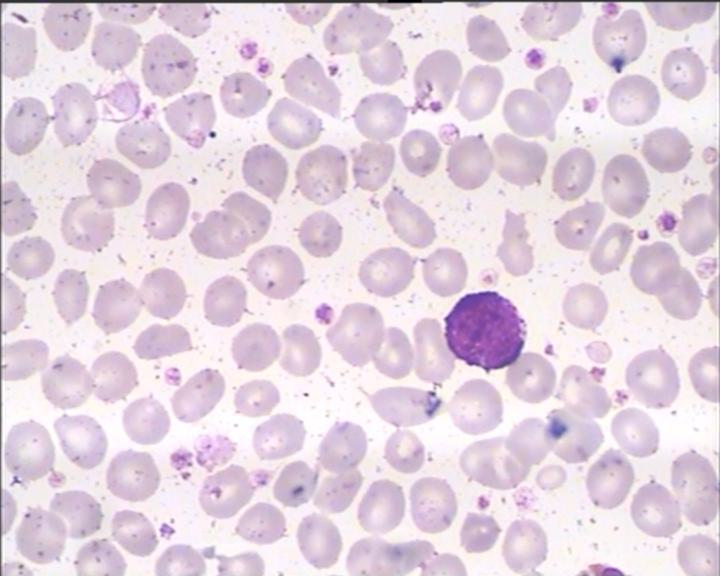baso: (439, 284, 527, 376)
